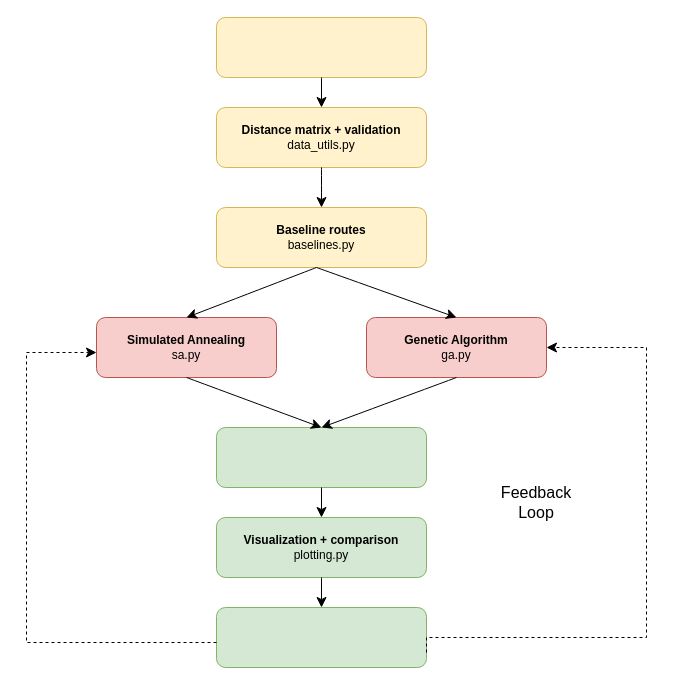
Image size: 674x685. Some labels were removed from this diagram. Each missing label, with the centre of its shape:
"City Dataset tsp50_cities.csv" belongs at point 321,47.
"Experimental Results experiments.py" belongs at point 321,457.
"Parameter + design refinement cooling rate, mutation rate" belongs at point 321,637.
